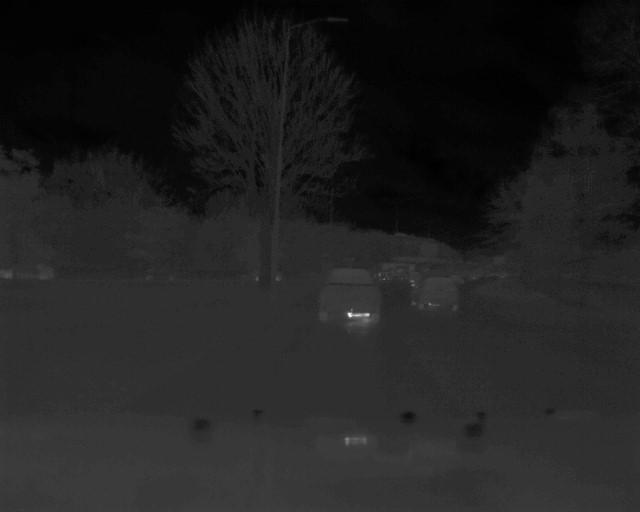car: (317, 264, 386, 329), (411, 275, 462, 317), (5, 261, 54, 284)
